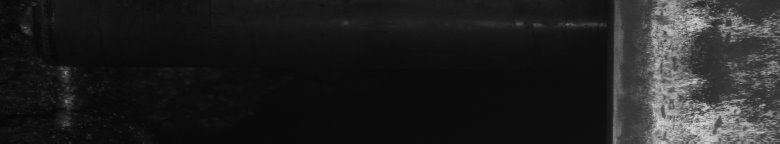kb: (643, 4, 776, 136)
